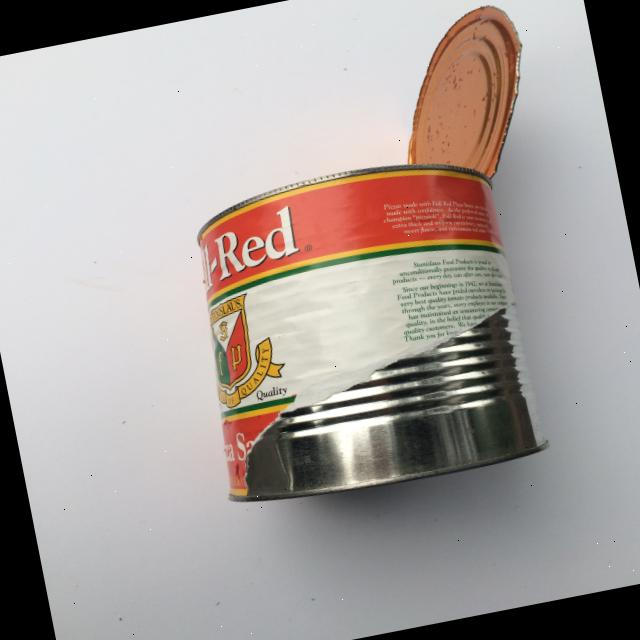metal: (145, 0, 600, 516)
